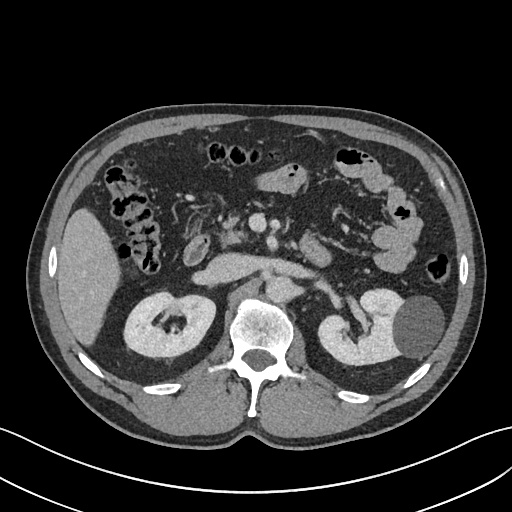Lesion: (387, 290, 447, 361)
